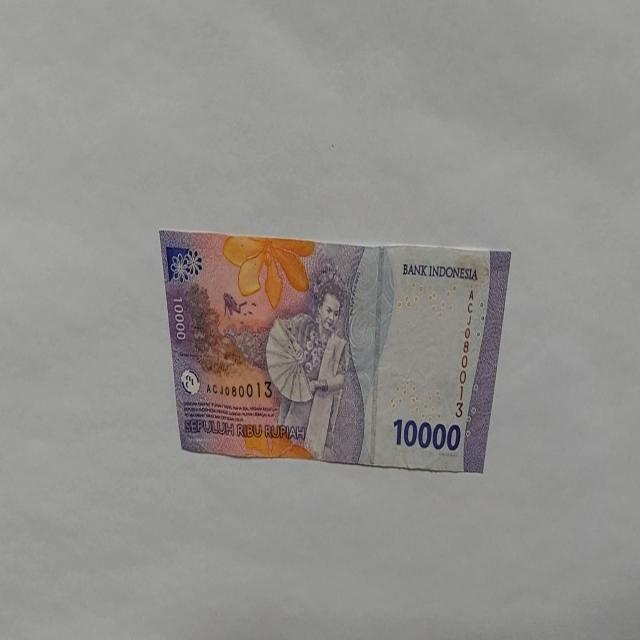sepuluh ribu rupiah: (158, 226, 512, 474)
